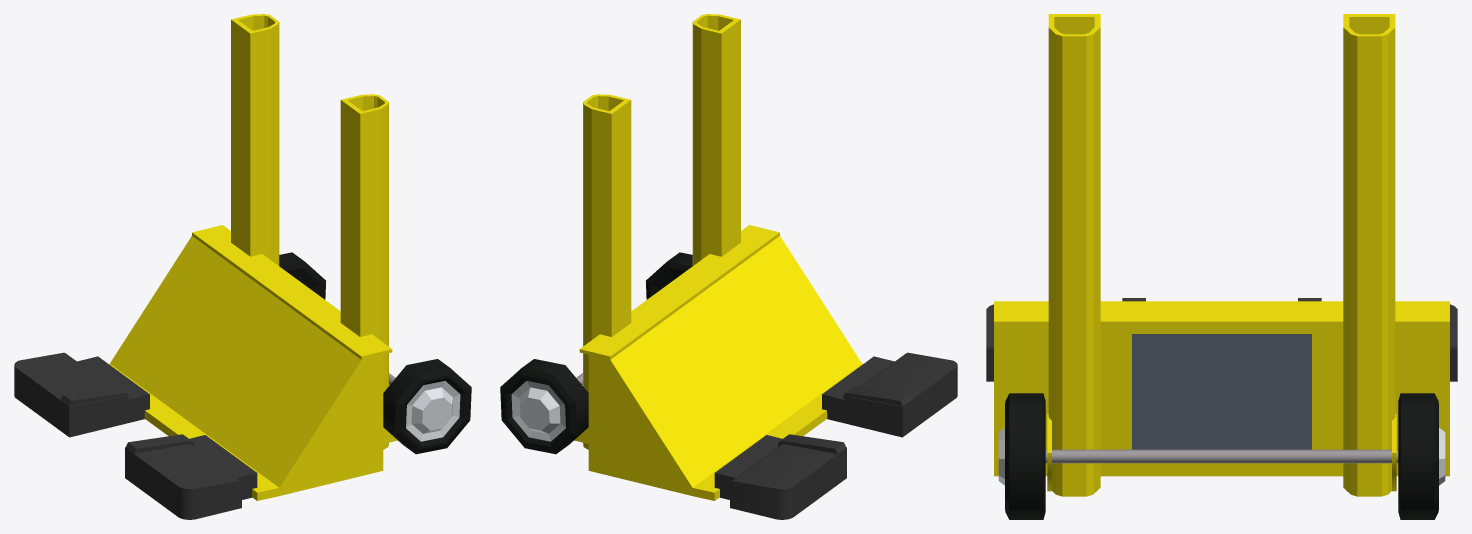
Rendered from SM_rollling_device.fbx.
3 views of the same model, side by side, from view 1: azimuth 30°, elevation 25°; view 2: azimuth 150°, elevation 25°; view 3: azimuth 270°, elevation 25° (orthographic). The views are drawn at different scales.
Visible parts, largest first — view 1: rollling_device; view 2: rollling_device; view 3: rollling_device.
Boxes of the visible parts, box(x1,y1,x2,y2) form: rollling_device: box(14, 14, 471, 519); rollling_device: box(500, 14, 957, 519); rollling_device: box(986, 14, 1457, 519).
Size of the model in its own units: 134 by 148 by 137.
